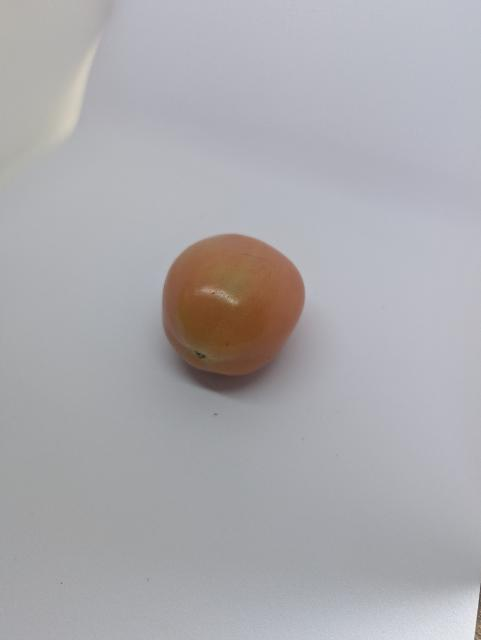turning: (157, 230, 307, 379)
